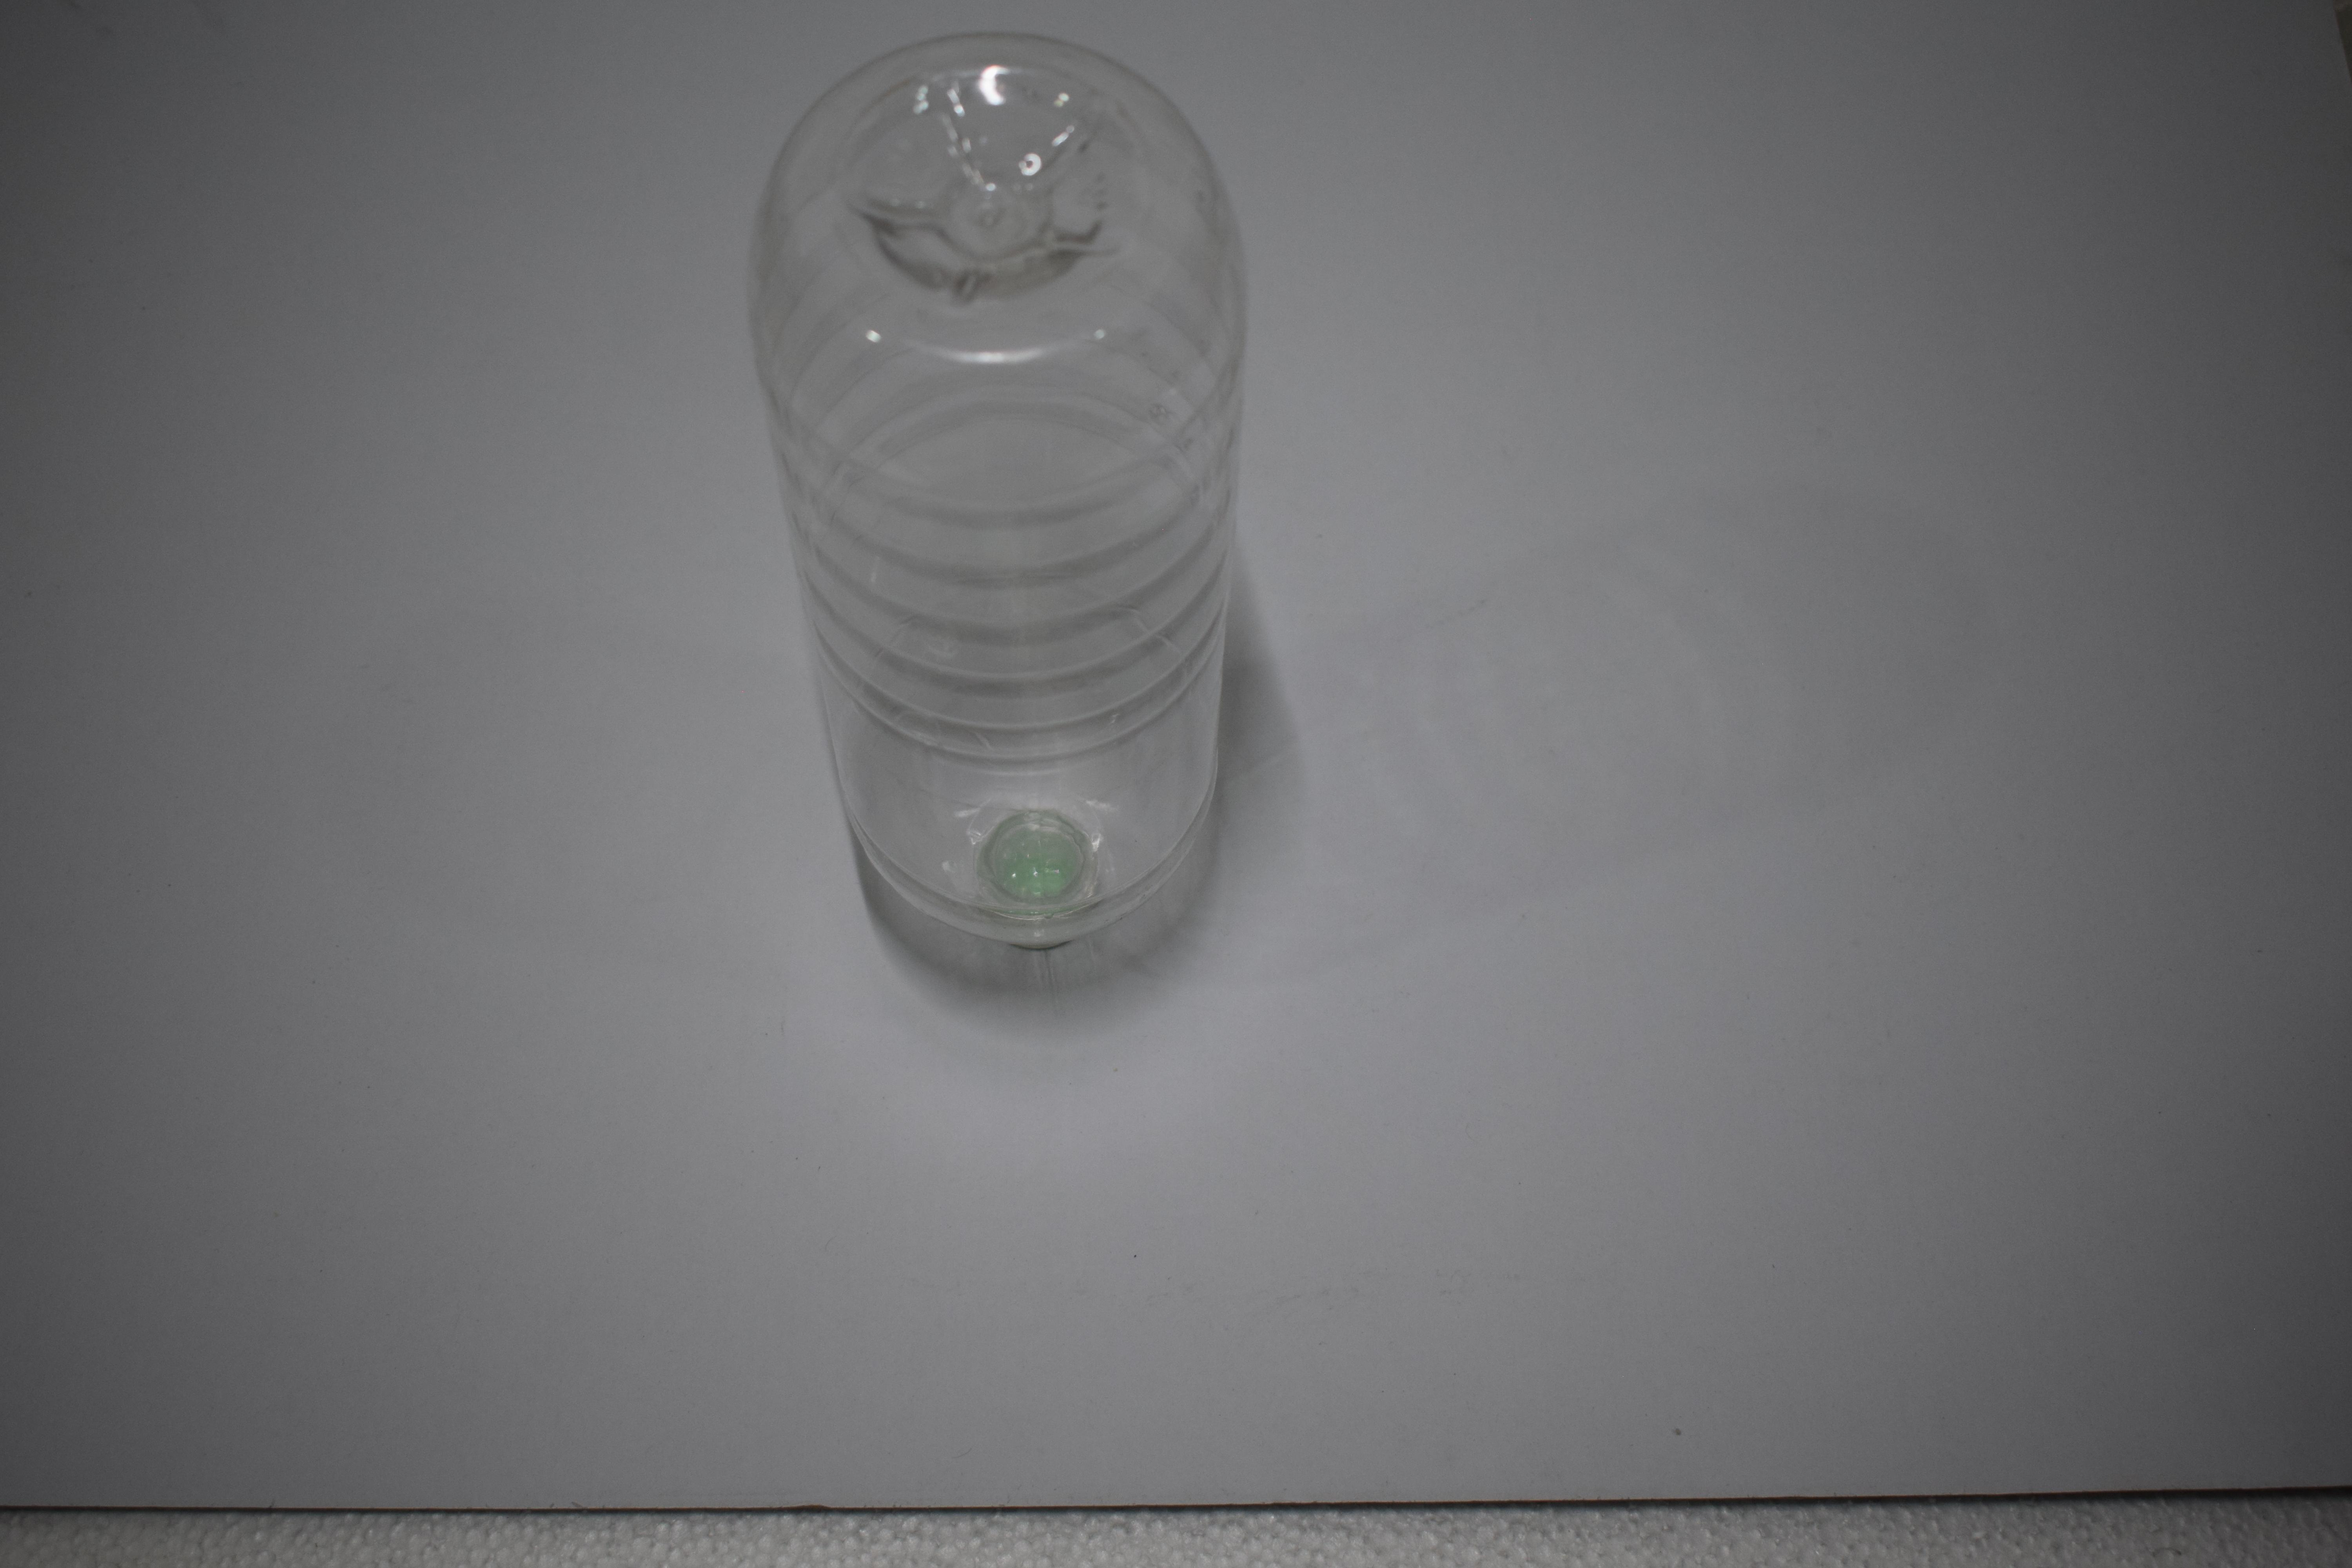bottle: (740, 16, 1251, 968)
